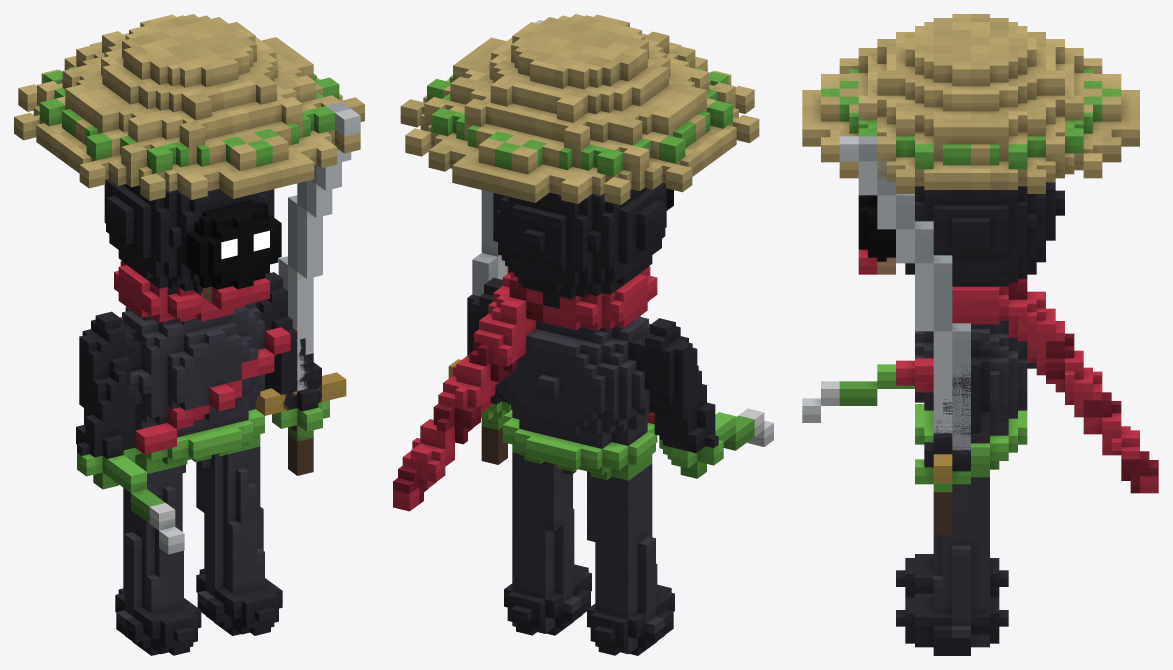
The model's file is u_lame__moine.glb.
3 views of the same model, side by side, from view 1: azimuth 30°, elevation 25°; view 2: azimuth 150°, elevation 25°; view 3: azimuth 270°, elevation 25° (orthographic). The views are drawn at different scales.
Visible parts, largest first — view 1: lame_body, lame_weapon, lame_glow; view 2: lame_body, lame_weapon; view 3: lame_body, lame_weapon.
Boxes of the visible parts, x1,y1,x2,y2 form: lame_body: (14, 14, 364, 655); lame_weapon: (255, 102, 360, 475); lame_glow: (221, 230, 269, 259); lame_body: (393, 14, 773, 655); lame_weapon: (448, 20, 543, 464); lame_body: (802, 14, 1158, 655); lame_weapon: (839, 136, 970, 535).
Bounding box in the file's own units: 0.85 × 1.72 × 0.95.
